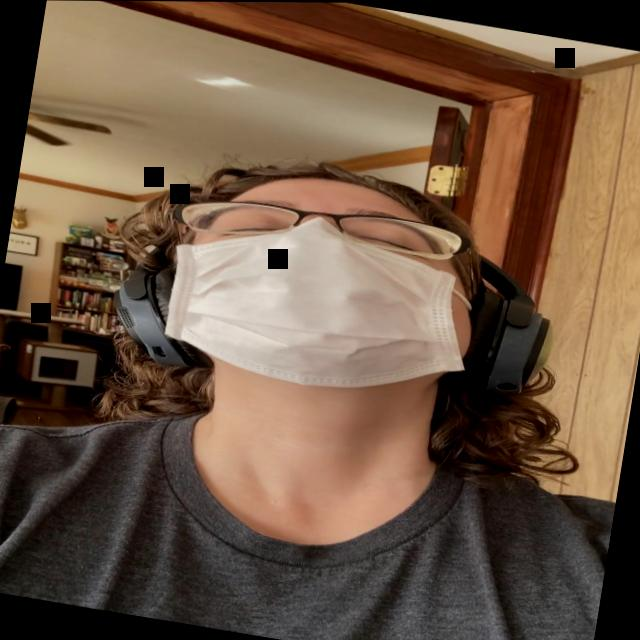Mask: (155, 153, 495, 411)
